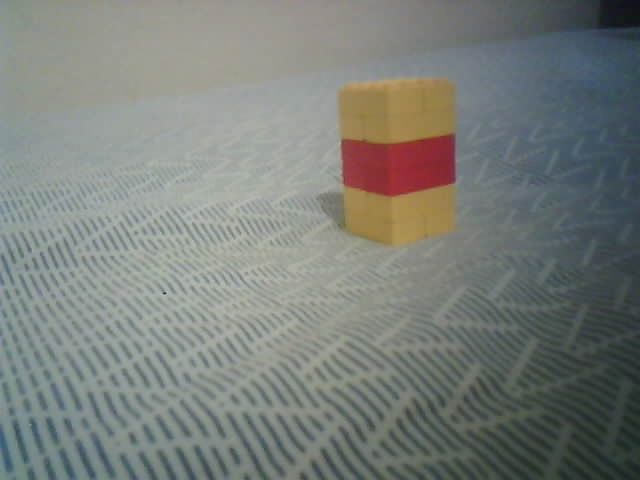lego: (335, 75, 459, 246)
